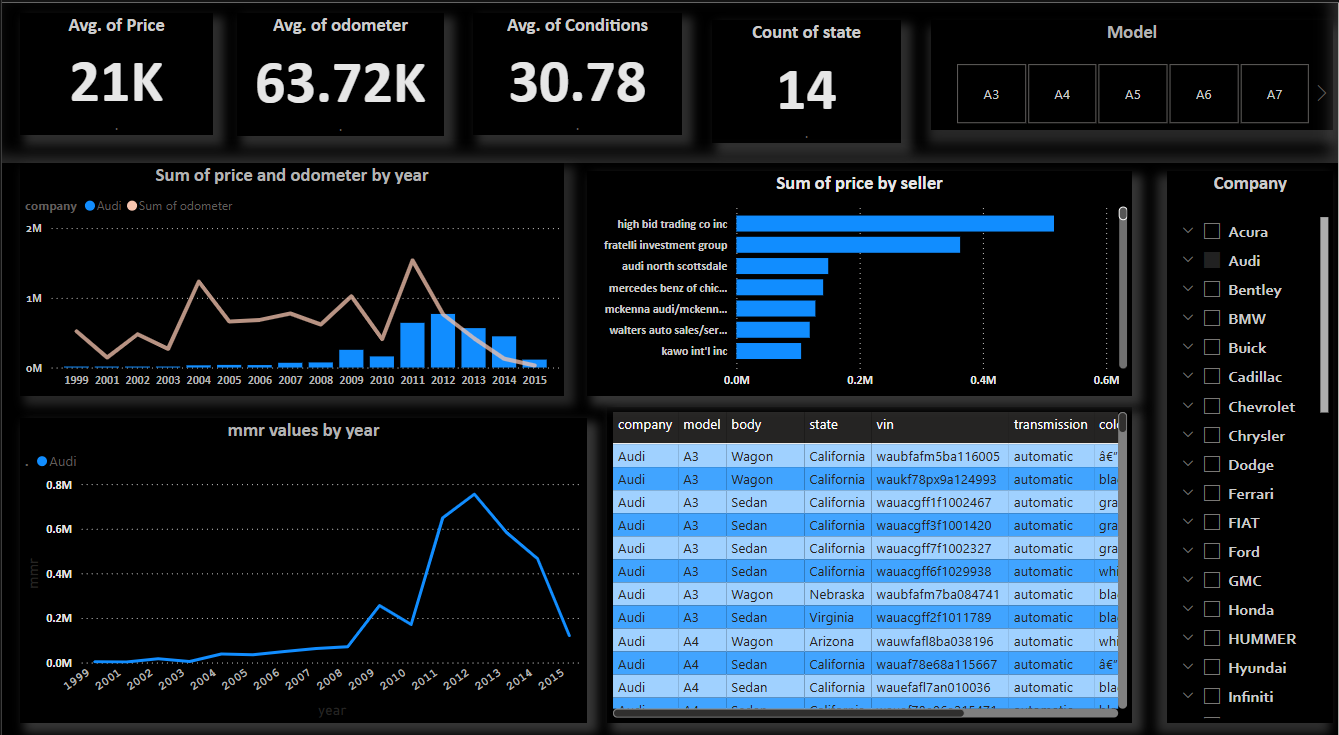

The dashboard page shown, as its layout file describes it:
{"tool":"powerbi","page":{"name":"Page 1","canvas":[1333,765],"ordinal":0},"visuals":[{"type":"slicer","title":"Company","fields":{"Values":["vehicles_cleaned_data.company","vehicles_cleaned_data.trim"]},"box":[1162.4,200.5,165.6,550.8],"z":0},{"type":"shape","box":[0,30.9,1333,161.6],"z":1000},{"type":"card","title":"Avg. of Price","fields":{"Values":["Avg(vehicles_cleaned_data.price)"]},"box":[18,42.9,192.6,121.7],"z":2000},{"type":"lineChart","title":"mmr values by year","fields":{"Category":["vehicles_cleaned_data.year"],"Y":["Sum(vehicles_cleaned_data.mmr)"],"Series":["vehicles_cleaned_data.company"]},"box":[18,447,565.7,304.3],"z":3000},{"type":"slicer","title":"Model","fields":{"Values":["vehicles_cleaned_data.model"]},"box":[926.9,49.9,401.1,109.8],"z":4000},{"type":"tableEx","fields":{"Values":["vehicles_cleaned_data.company","vehicles_cleaned_data.model","vehicles_cleaned_data.body","vehicles_cleaned_data.state","vehicles_cleaned_data.vin","vehicles_cleaned_data.transmission","vehicles_cleaned_data.color","vehicles_cleaned_data.interior","vehicles_cleaned_data.date.Variation.Date Hierarchy.Year","vehicles_cleaned_data.date.Variation.Date Hierarchy.Month","vehicles_cleaned_data.date.Variation.Date Hierarchy.Day"]},"box":[603.6,436,523.8,315.3],"z":5000},{"type":"card","title":"Avg. of Conditions","fields":{"Values":["Avg(vehicles_cleaned_data.condition)"]},"box":[469.9,42.9,208.5,121.7],"z":6000},{"type":"card","title":"Avg. of odometer","fields":{"Values":["Avg(vehicles_cleaned_data.odometer)"]},"box":[234.5,42.9,206.5,122.7],"z":7000},{"type":"lineStackedColumnComboChart","title":"Sum of price and odometer by year ","fields":{"Category":["vehicles_cleaned_data.year"],"Series":["vehicles_cleaned_data.company"],"Y":["Sum(vehicles_cleaned_data.price)"],"Y2":["Sum(vehicles_cleaned_data.odometer)"]},"box":[18,192.6,542.8,232.5],"z":8000},{"type":"clusteredBarChart","fields":{"Category":["vehicles_cleaned_data.seller","vehicles_cleaned_data.company"],"Y":["Sum(vehicles_cleaned_data.price)"]},"box":[583.7,200.5,543.8,224.5],"z":8001},{"type":"card","title":"Count of state","fields":{"Values":["Count(vehicles_cleaned_data.state)"]},"box":[708.4,49.9,188.6,122.7],"z":8002}]}

Visuals, with their boxes on the page's 1333x765 design canvas (x1, y1, x2, y2). These are canvas units, not pixel positions in the 1339x735 screenshot, which may show the page scaled, cropped or inside an application window:
"Company" slicer: 1162, 200, 1328, 751
shape: 0, 31, 1333, 192
"Avg. of Price" card: 18, 43, 211, 165
"mmr values by year" lineChart: 18, 447, 584, 751
"Model" slicer: 927, 50, 1328, 160
tableEx - vehicles_cleaned_data.company x vehicles_cleaned_data.model: 604, 436, 1127, 751
"Avg. of Conditions" card: 470, 43, 678, 165
"Avg. of odometer" card: 234, 43, 441, 166
"Sum of price and odometer by year " lineStackedColumnComboChart: 18, 193, 561, 425
clusteredBarChart - vehicles_cleaned_data.seller x vehicles_cleaned_data.company: 584, 200, 1128, 425
"Count of state" card: 708, 50, 897, 173
